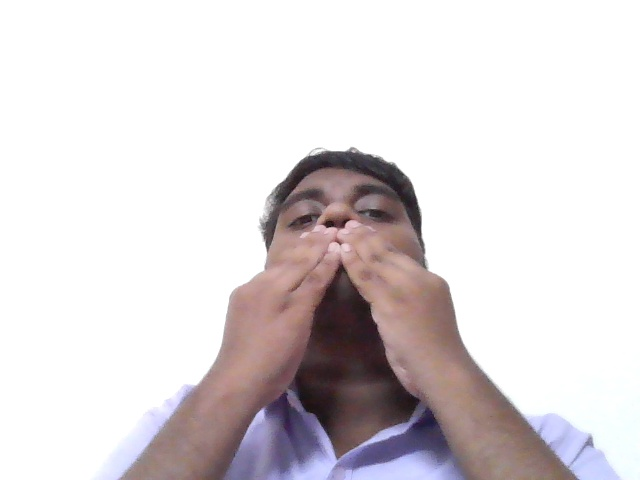Thank you: (160, 218, 478, 420)
